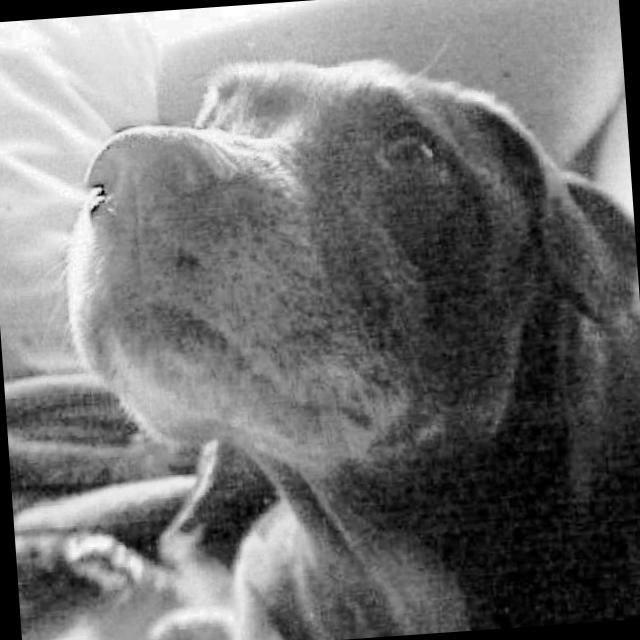Dog: (47, 21, 640, 640)
